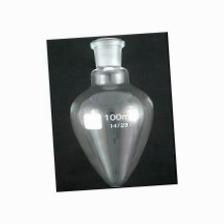Pear shaped flask: (61, 39, 159, 186)
